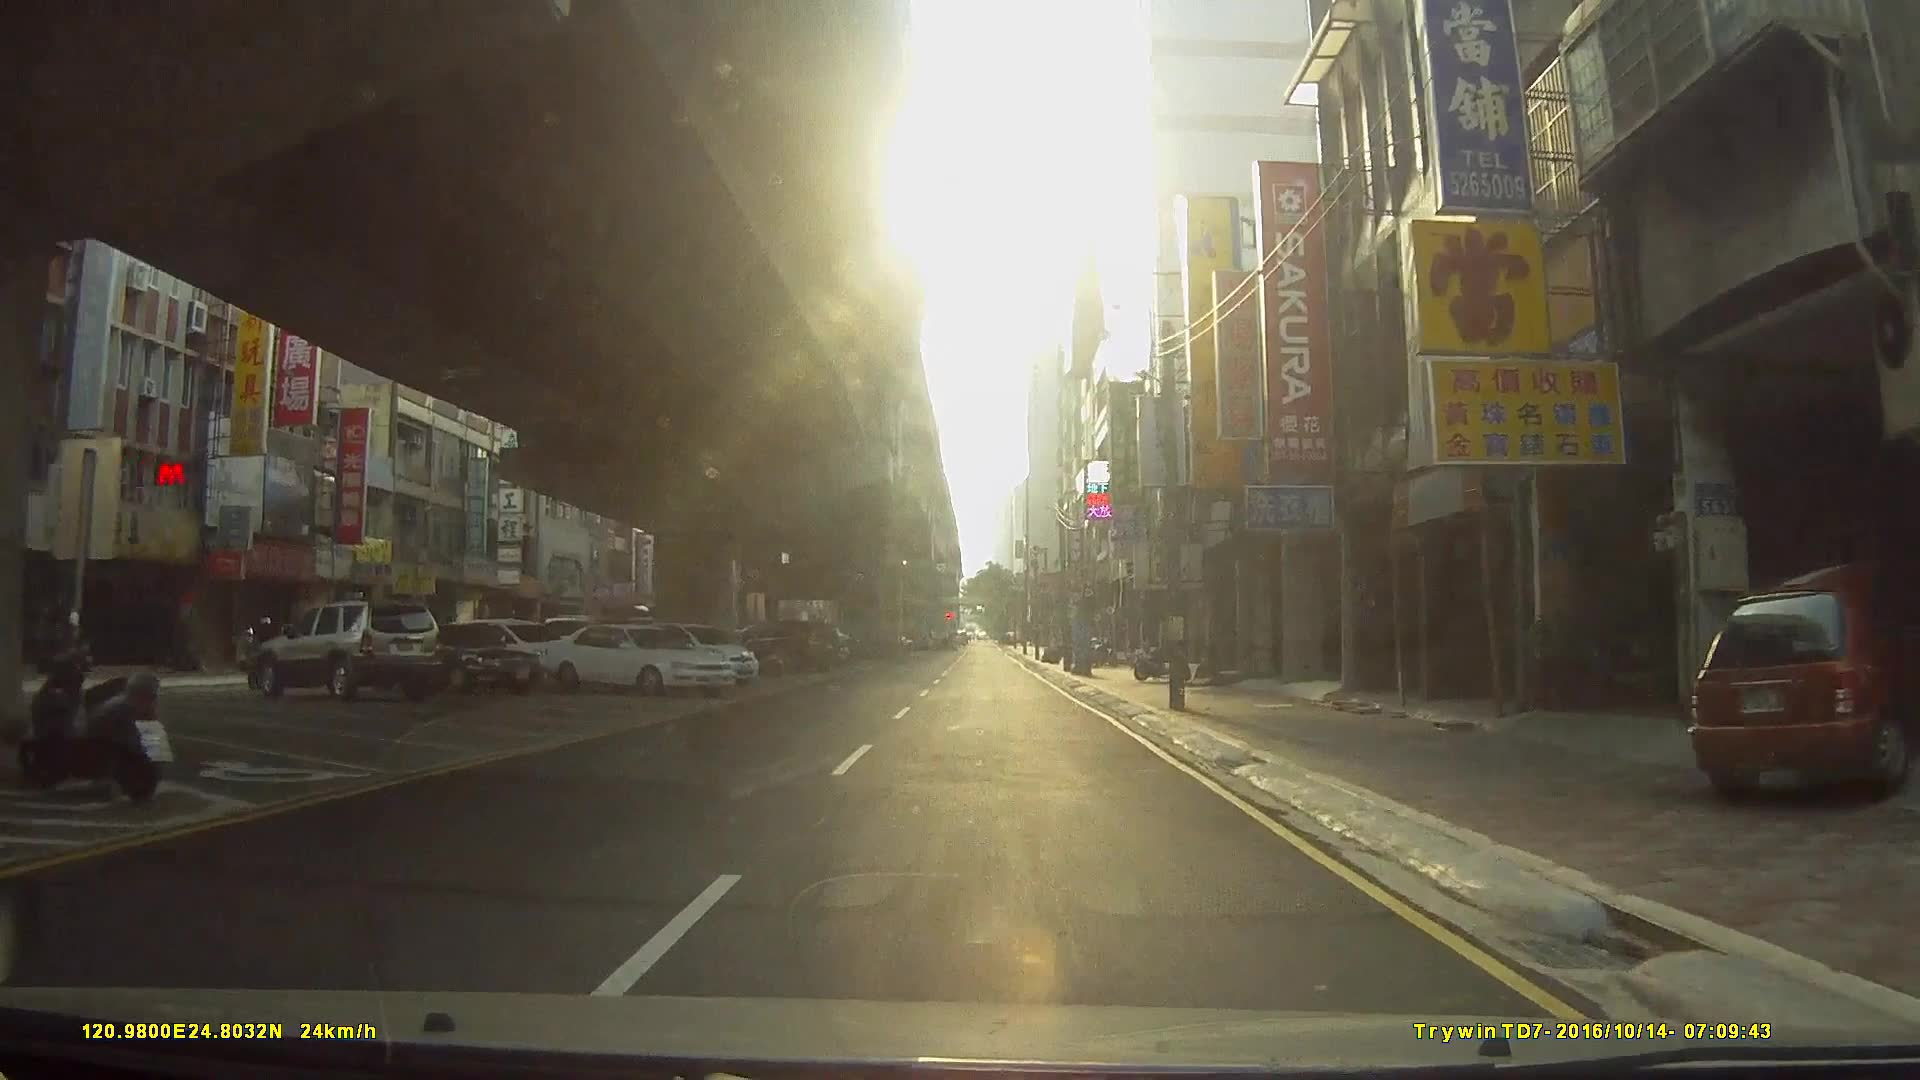vehicle: (1685, 556, 1920, 800), (255, 600, 444, 703), (345, 620, 543, 695), (538, 621, 741, 692)
